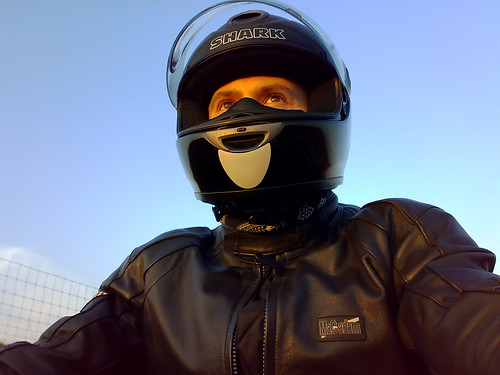helmet: (148, 9, 375, 211)
